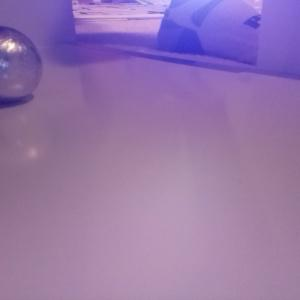alive_ball: (1, 26, 42, 103)
